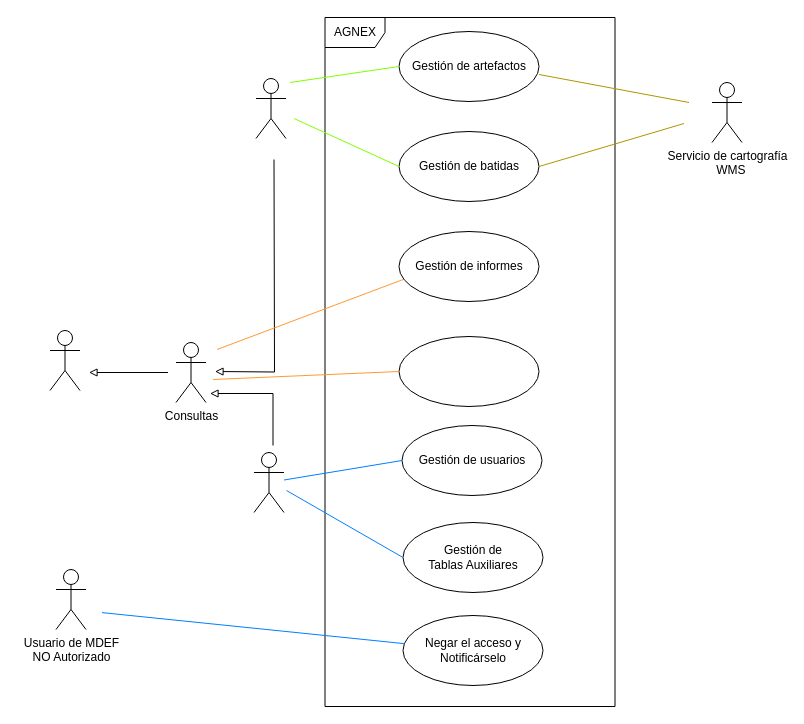
Some shapes in this 804 by 724 pixel diagram are drawn without their labels. Each missing label, with the centre of its shape:
Administrador: pixel 268 482
Consulta de objetos sobre el visor GIS: pixel 468 371
Gestor: pixel 270 108
Usuario de MDEF autorizado: pixel 64 360
